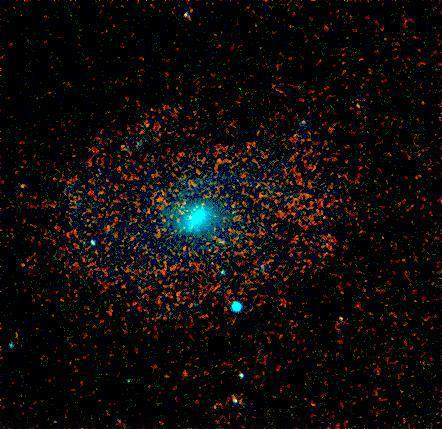star: (6, 169, 36, 199)
